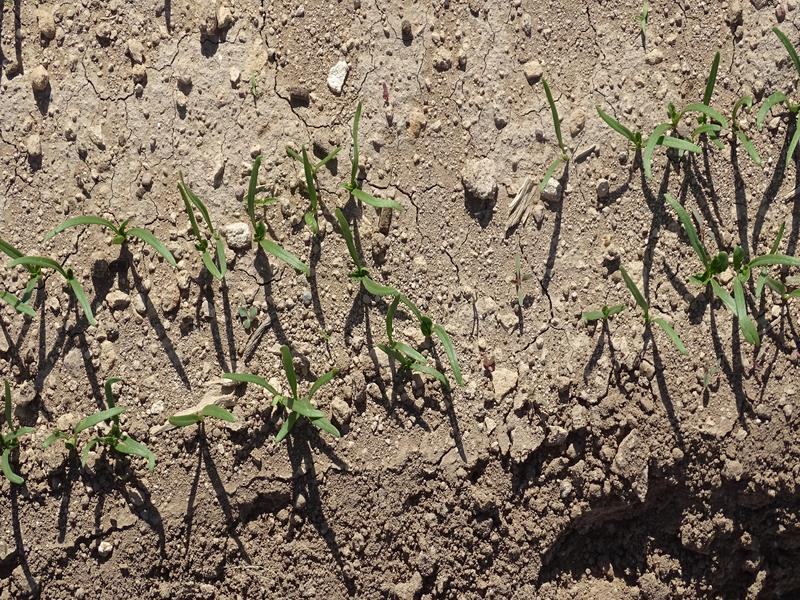Espinaca: (246, 102, 409, 269), (600, 53, 800, 170), (660, 195, 800, 358), (1, 216, 177, 327), (233, 342, 352, 443), (369, 285, 463, 391), (43, 385, 154, 465), (186, 184, 228, 279), (166, 398, 238, 430), (1, 416, 31, 488)
